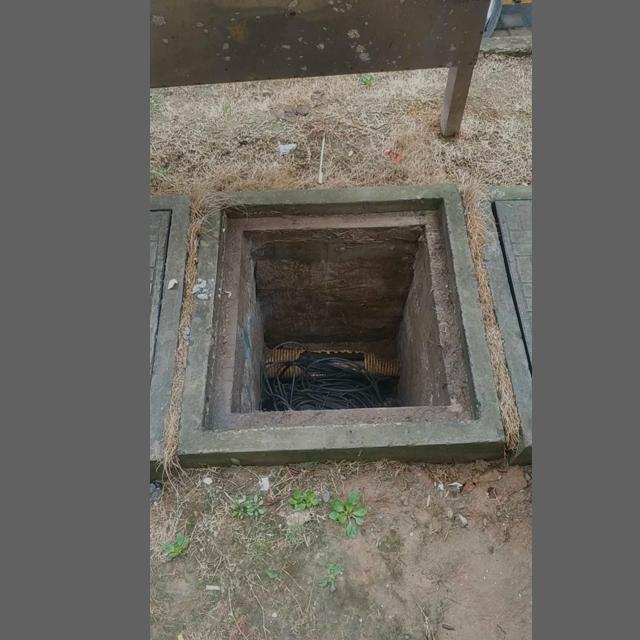lose: (177, 182, 505, 472)
